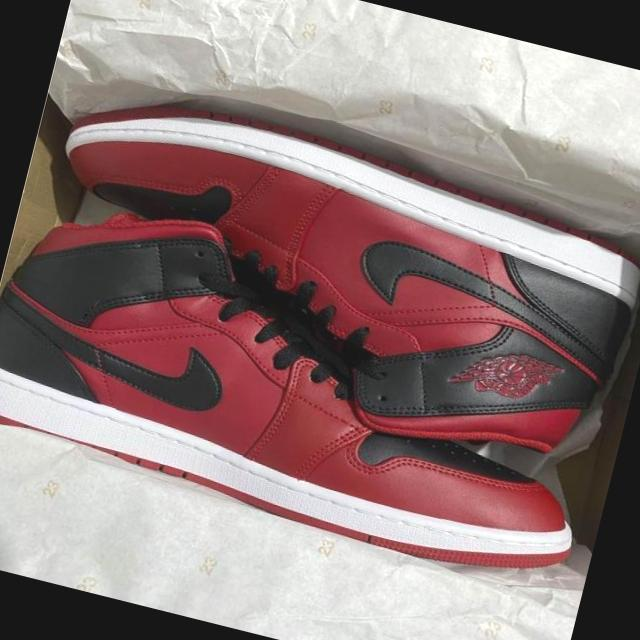nike_original_jordan: (14, 75, 640, 486), (0, 195, 625, 595)
